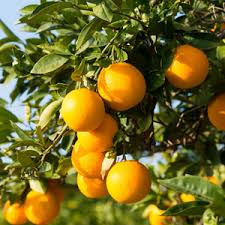orange: (95, 62, 146, 111), (161, 42, 209, 91), (57, 87, 104, 132), (106, 161, 152, 203), (66, 141, 110, 177), (78, 112, 118, 150), (22, 187, 60, 225)
